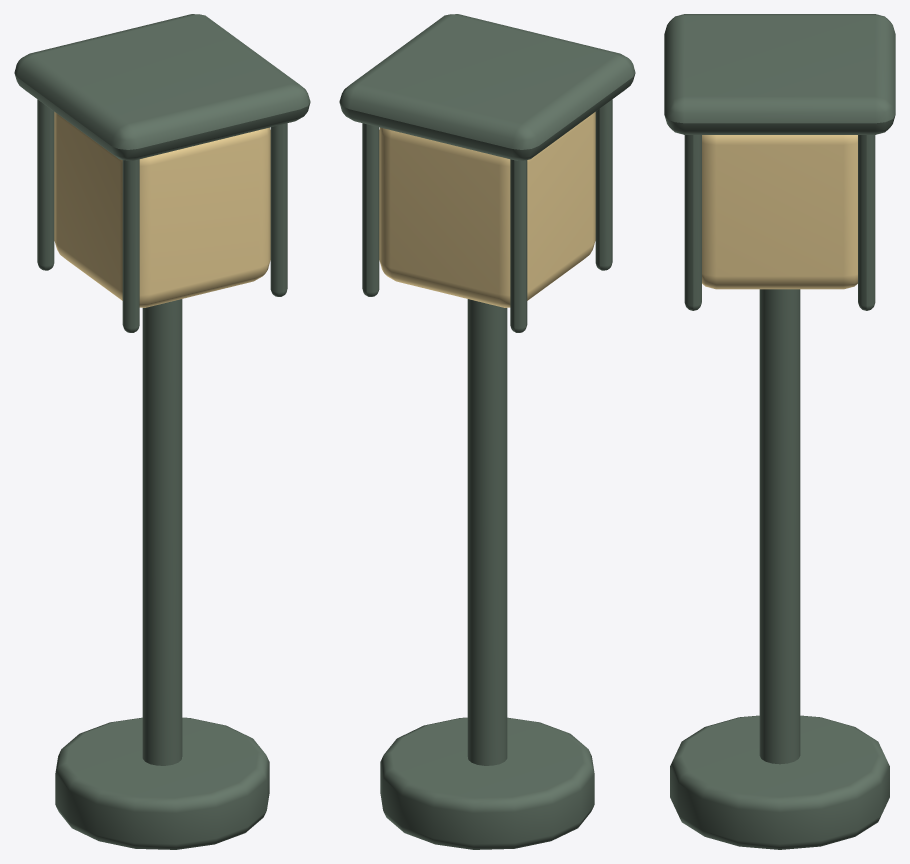
File: lamp.glb
3 renders of one model, left to right at view 1: azimuth 30°, elevation 25°; view 2: azimuth 150°, elevation 25°; view 3: azimuth 270°, elevation 25°, orthographic.
Visible parts, largest first — view 1: Warm glass, Top, Base, Post, Frame, Frame.002, Frame.001; view 2: Warm glass, Top, Base, Post, Frame.001, Frame.003, Frame; view 3: Top, Warm glass, Base, Post, Frame.002, Frame.003.
Boxes of the visible parts, x1,y1,x2,y2 form: Warm glass: [54, 112, 270, 307]; Top: [14, 14, 310, 160]; Base: [55, 717, 269, 849]; Post: [142, 299, 182, 765]; Frame: [122, 159, 139, 332]; Frame.002: [270, 123, 287, 296]; Frame.001: [37, 99, 54, 270]; Warm glass: [379, 112, 595, 307]; Top: [339, 14, 635, 160]; Base: [380, 717, 594, 849]; Post: [467, 299, 507, 765]; Frame.001: [510, 159, 527, 332]; Frame.003: [362, 123, 379, 296]; Frame: [595, 99, 612, 270]; Top: [664, 14, 895, 134]; Warm glass: [702, 135, 857, 289]; Base: [670, 715, 889, 849]; Post: [759, 289, 800, 764]; Frame.002: [684, 135, 701, 310]; Frame.003: [858, 135, 875, 310].
Size of the model in its own units: 0.4 by 1.43 by 0.4.
